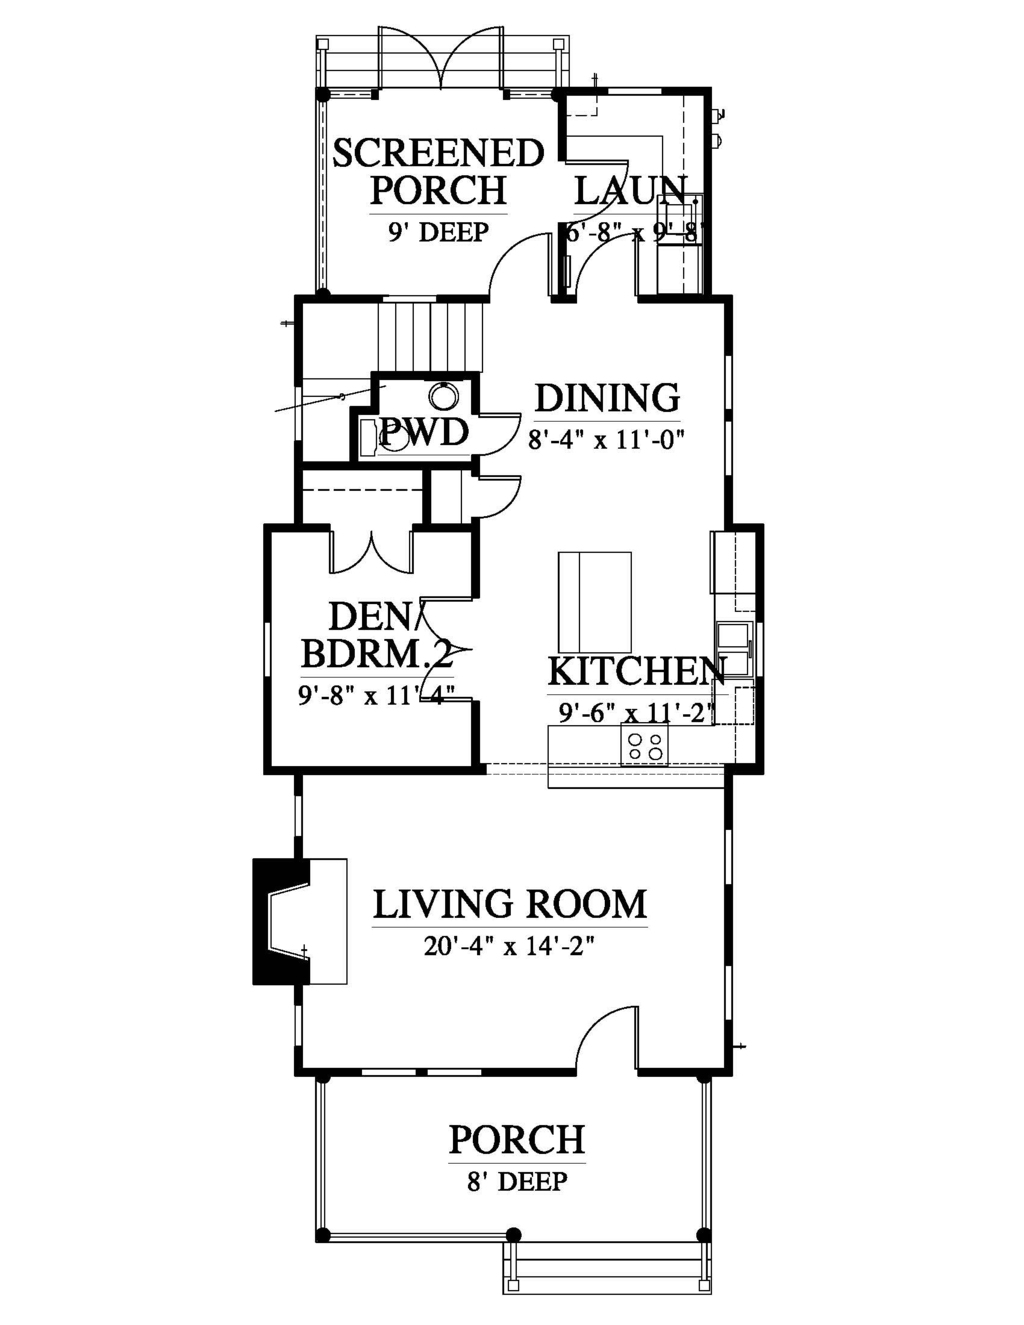door: (370, 22, 506, 97), (417, 590, 477, 701), (566, 1002, 645, 1080), (325, 522, 421, 581), (577, 226, 642, 300), (566, 149, 627, 226), (483, 236, 553, 300), (472, 402, 520, 462), (473, 470, 520, 522)
stairs: (499, 1217, 715, 1300), (293, 297, 493, 369)
twin_sink: (717, 617, 758, 674)
windows: (345, 1062, 480, 1086), (719, 353, 741, 484)
